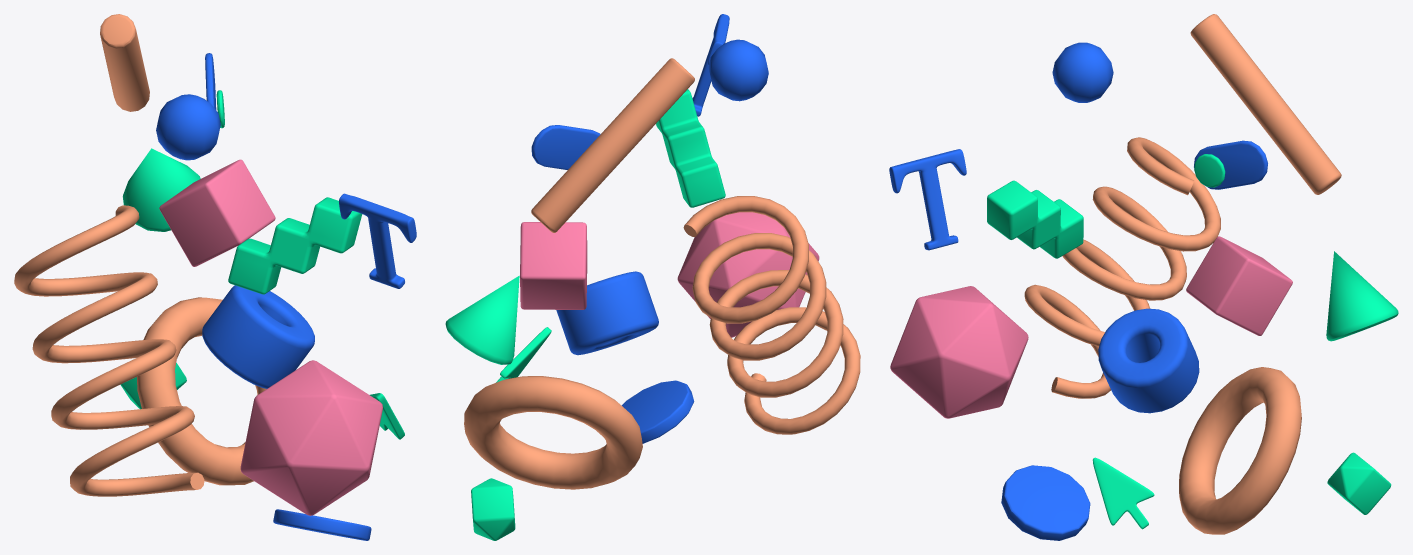
File: Hero.gltf
3 views of the same model, side by side, from view 1: azimuth 30°, elevation 25°; view 2: azimuth 150°, elevation 25°; view 3: azimuth 270°, elevation 25° (orthographic). The views are drawn at different scales.
Visible parts, largest first — view 1: Spiral, Icosphere, Cylinder.002, Cube, Torus, Cube.003, Cone, Cylinder, Sphere.001, Cube.002, Cylinder.001, Cylinder.004 (+2 smaller); view 2: Spiral, Torus, Cylinder, Icosphere, Cube, Cylinder.002, Cube.003, Cone, Sphere.001, Cylinder.001, Sphere, Cylinder.004 (+2 smaller); view 3: Spiral, Icosphere, Torus, Cylinder.002, Cylinder, Cube, Cylinder.001, Cube.003, Cone, Cylinder.004, Sphere.001, Cube.002 (+2 smaller).
Part boxes in pixels (x1,y1,x2,y2): Spiral: (14, 205, 204, 496); Icosphere: (240, 360, 382, 515); Cylinder.002: (202, 285, 314, 388); Cube: (159, 159, 275, 266); Torus: (136, 297, 266, 485); Cube.003: (228, 197, 362, 294); Cone: (122, 148, 200, 231); Cylinder: (100, 14, 149, 111); Sphere.001: (156, 94, 220, 160); Cube.002: (339, 193, 416, 288); Cylinder.001: (273, 509, 371, 540); Cylinder.004: (205, 53, 224, 128); Spiral: (683, 196, 860, 434); Torus: (464, 376, 642, 489); Cylinder: (531, 58, 694, 232); Icosphere: (677, 199, 819, 337); Cube: (520, 222, 587, 309); Cylinder.002: (556, 271, 658, 355); Cube.003: (656, 89, 725, 207); Cone: (445, 275, 519, 364); Sphere.001: (708, 39, 768, 101); Cylinder.001: (621, 380, 694, 443); Sphere: (471, 478, 515, 540); Cylinder.004: (531, 125, 600, 169); Spiral: (1024, 137, 1220, 398); Icosphere: (890, 286, 1028, 418); Torus: (1179, 367, 1301, 534); Cylinder.002: (1098, 308, 1199, 413); Cylinder: (1190, 14, 1341, 194); Cube: (1186, 236, 1292, 335); Cylinder.001: (1001, 465, 1090, 540); Cube.003: (987, 180, 1083, 258); Cone: (1326, 251, 1398, 341); Cylinder.004: (1194, 140, 1267, 189); Sphere.001: (1052, 42, 1113, 102); Cube.002: (889, 149, 966, 250).
Bounding box in the file's own units: 5.11 × 6.86 × 6.89.
